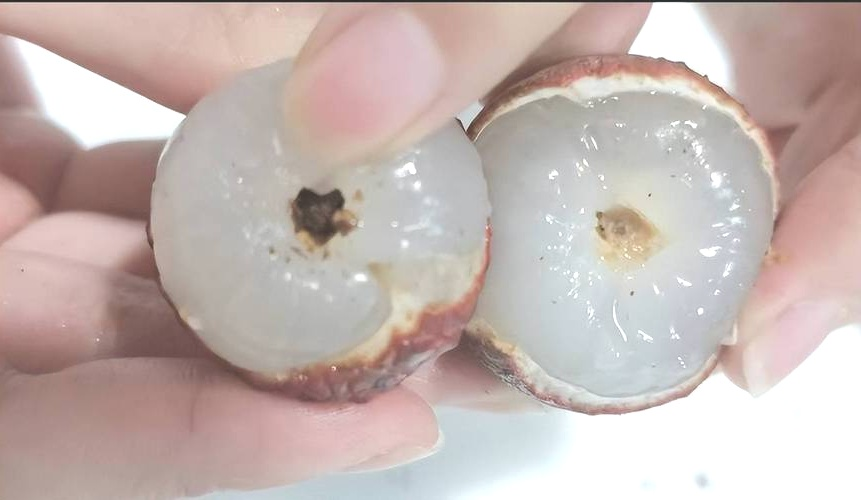Borer: (281, 186, 360, 254), (597, 196, 650, 270)
